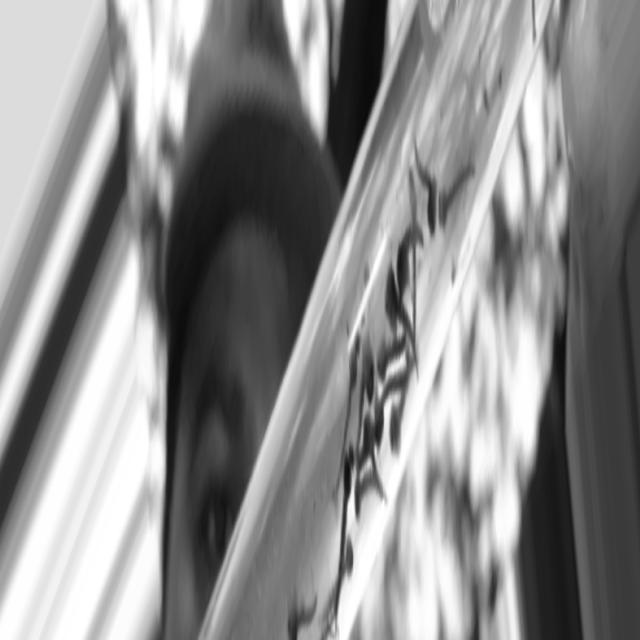larvas: (374, 266, 429, 372), (331, 454, 353, 633), (383, 354, 420, 458), (323, 536, 358, 628), (371, 371, 408, 449), (336, 339, 359, 447), (412, 144, 438, 217), (352, 341, 376, 418), (441, 167, 473, 221), (398, 225, 422, 295), (286, 593, 320, 639), (410, 184, 420, 324), (354, 417, 375, 476), (375, 336, 406, 374), (356, 474, 384, 514)
